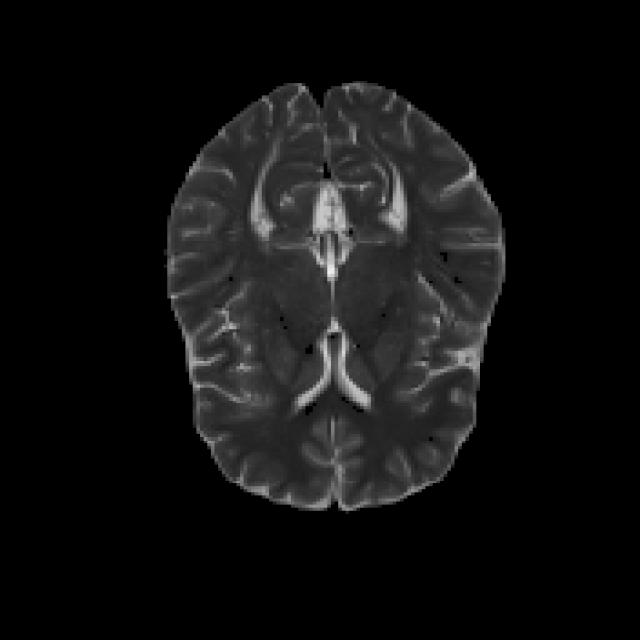CONTROL: (164, 77, 506, 511)
